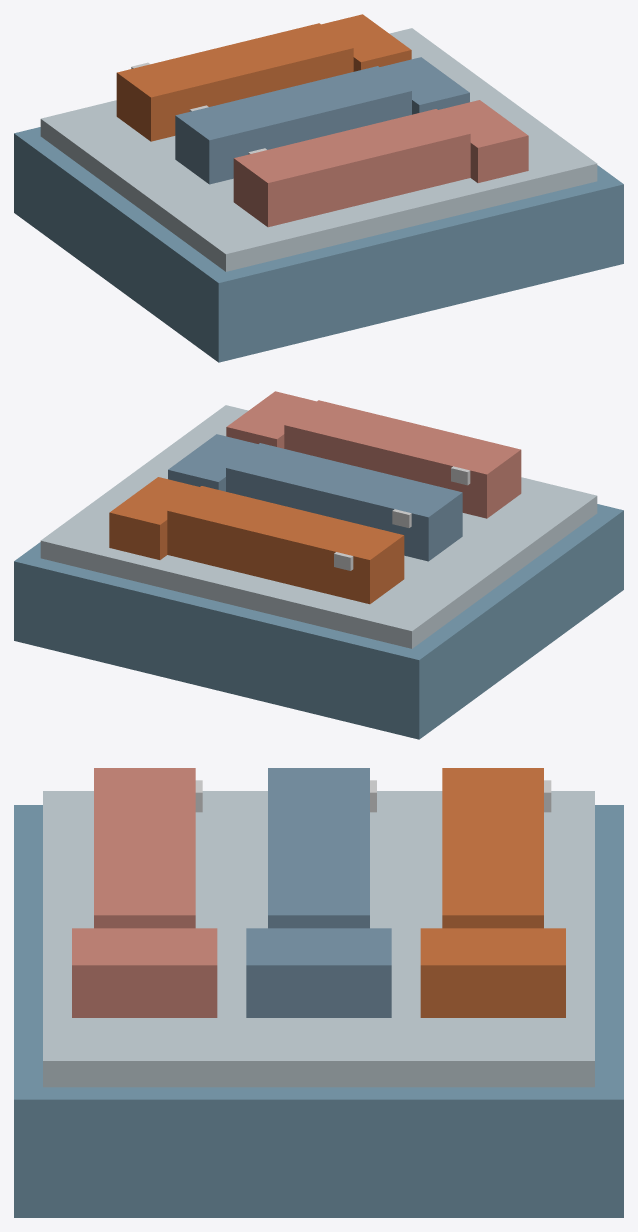
File: cp-fish-ice.glb
3 renders of one model, top to bottom at view 1: azimuth 30°, elevation 25°; view 2: azimuth 150°, elevation 25°; view 3: azimuth 270°, elevation 25°, orthographic. The views are drawn at different scales.
Visible parts, largest first — view 1: box-prop; view 2: box-prop; view 3: box-prop.
Part boxes in pixels (left/top/right/bottom): box-prop: left=14, top=14, right=623, bottom=362; box-prop: left=14, top=391, right=623, bottom=739; box-prop: left=14, top=768, right=623, bottom=1217.
Size of the model in its own units: 0.96 by 0.32 by 0.84.
